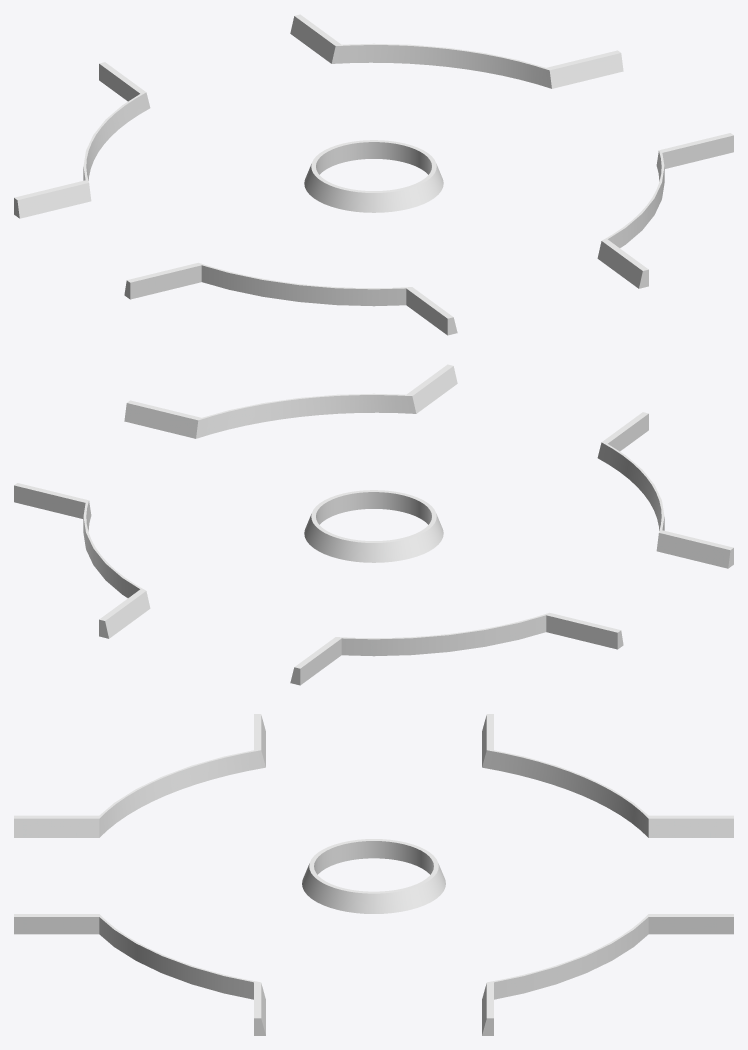
Rendered from road-roundabout-barrier.glb.
3 views of the same model, one above another, from view 1: azimuth 30°, elevation 25°; view 2: azimuth 150°, elevation 25°; view 3: azimuth 270°, elevation 25° (orthographic). The views are drawn at different scales.
Parts seen in each view (by area): view 1: road-roundabout-barrier; view 2: road-roundabout-barrier; view 3: road-roundabout-barrier.
Boxes of the visible parts, x1,y1,x2,y2 form: road-roundabout-barrier: (14,14,733,335); road-roundabout-barrier: (14,364,733,685); road-roundabout-barrier: (14,714,733,1035).
Bounding box in the file's own units: 3 × 0.08 × 3.
1 material, 1 textured.
